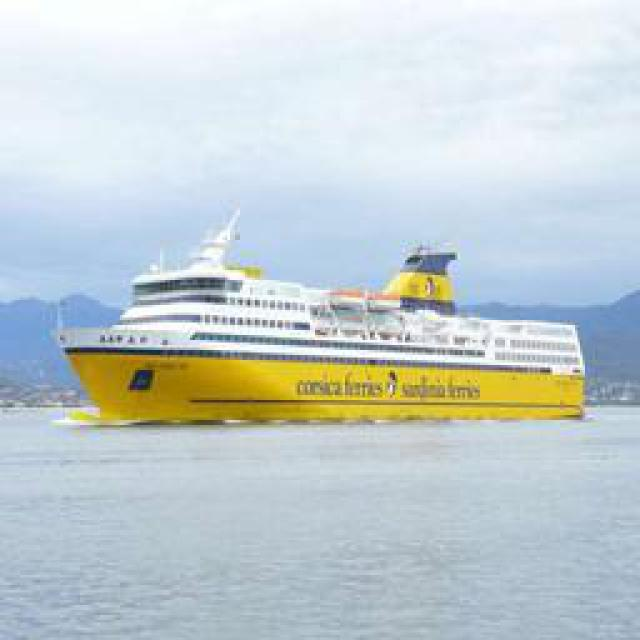Ship: (63, 204, 598, 424)
